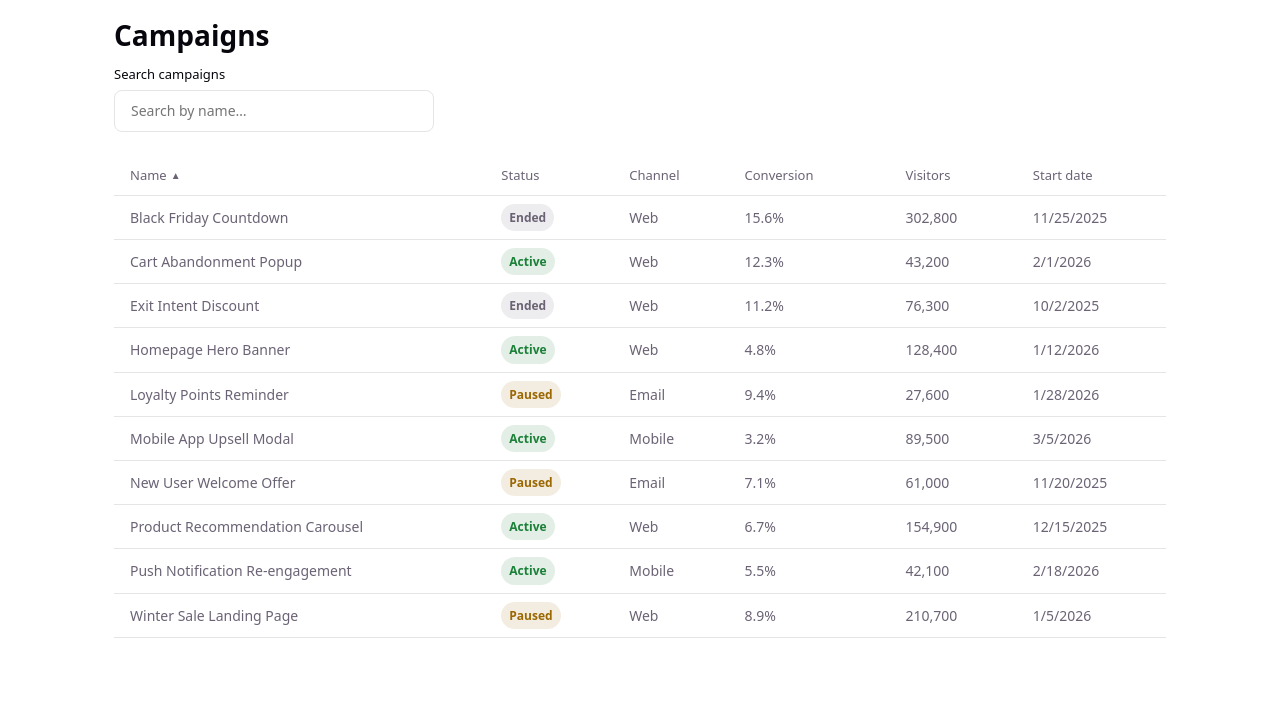
DashboardPage › filters the list when searching
This screenshot has width=1280, height=720.
Check: the text "Homepage Hero Banner" is shown, box [114, 328, 485, 372]
Type "Loyalty" into the search field labelled "Search campaigns".
click(274, 111); type("Loyalty")  # box [114, 90, 434, 132]
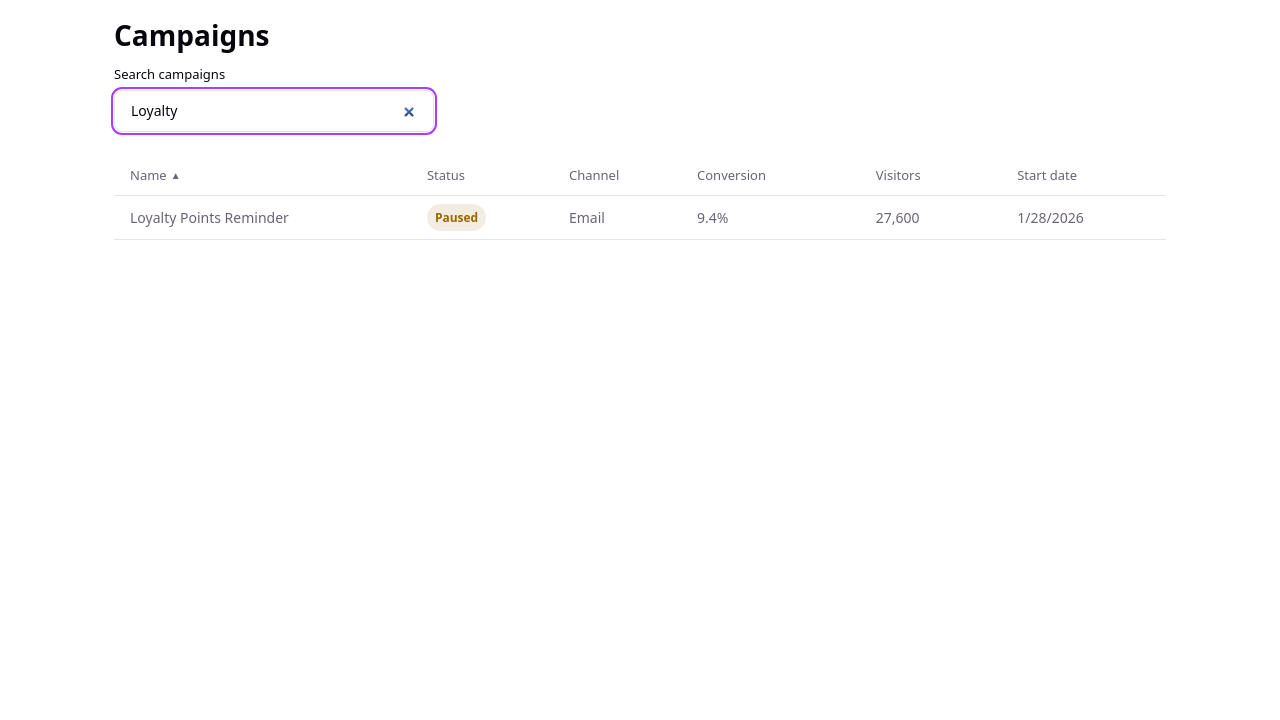
Check: the text "Loyalty Points Reminder" is shown, box [114, 196, 411, 240]
Check: the text "Homepage Hero Banner" is gone
